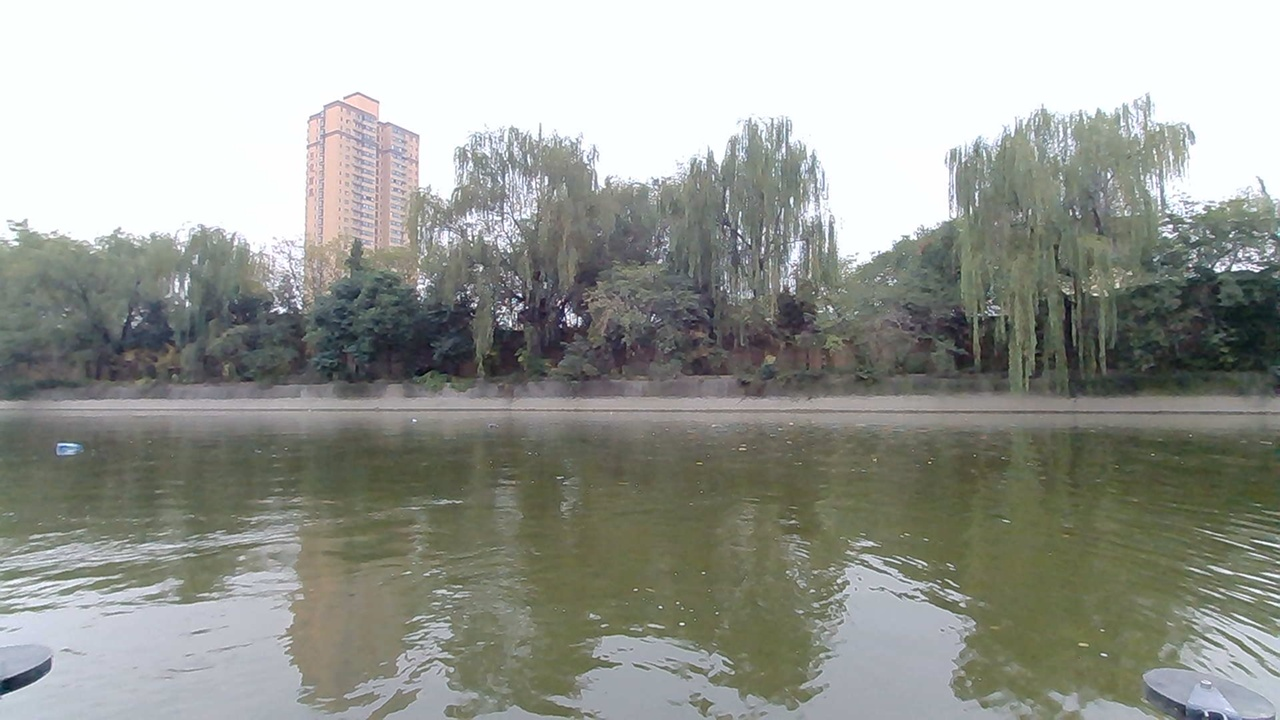bottle: (45, 430, 100, 463)
